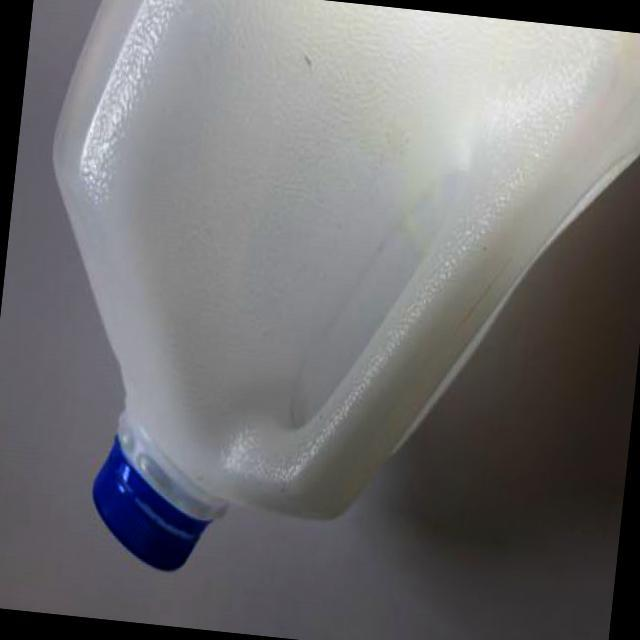HDPE Plastic: (47, 0, 640, 579)
